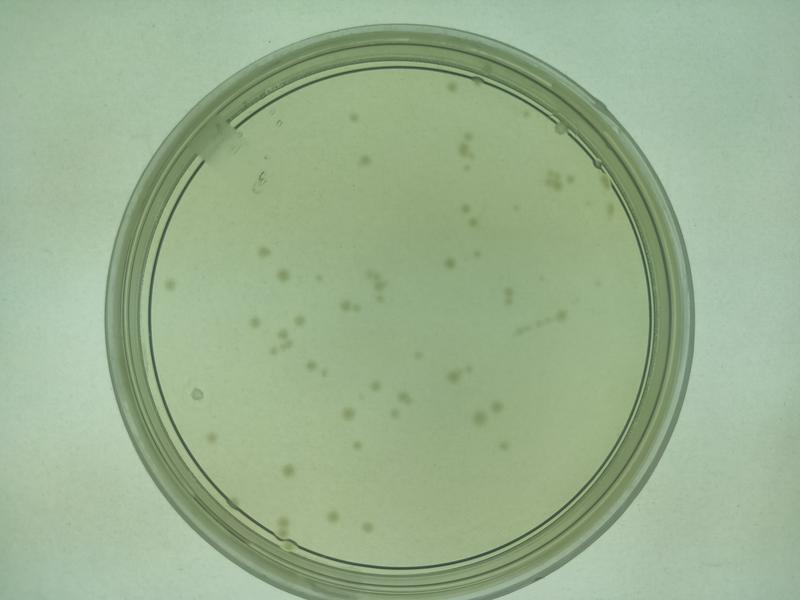colony: (203, 427, 222, 447), (354, 152, 373, 171), (358, 518, 378, 536), (336, 405, 357, 422), (439, 254, 458, 272), (275, 267, 293, 286), (410, 347, 428, 366), (495, 438, 514, 456), (252, 242, 272, 259), (441, 78, 458, 95), (468, 245, 485, 262), (246, 313, 262, 331), (291, 312, 309, 328), (324, 507, 340, 524), (346, 109, 360, 126), (366, 379, 383, 393), (163, 278, 178, 293), (280, 463, 295, 478), (349, 439, 364, 454)
